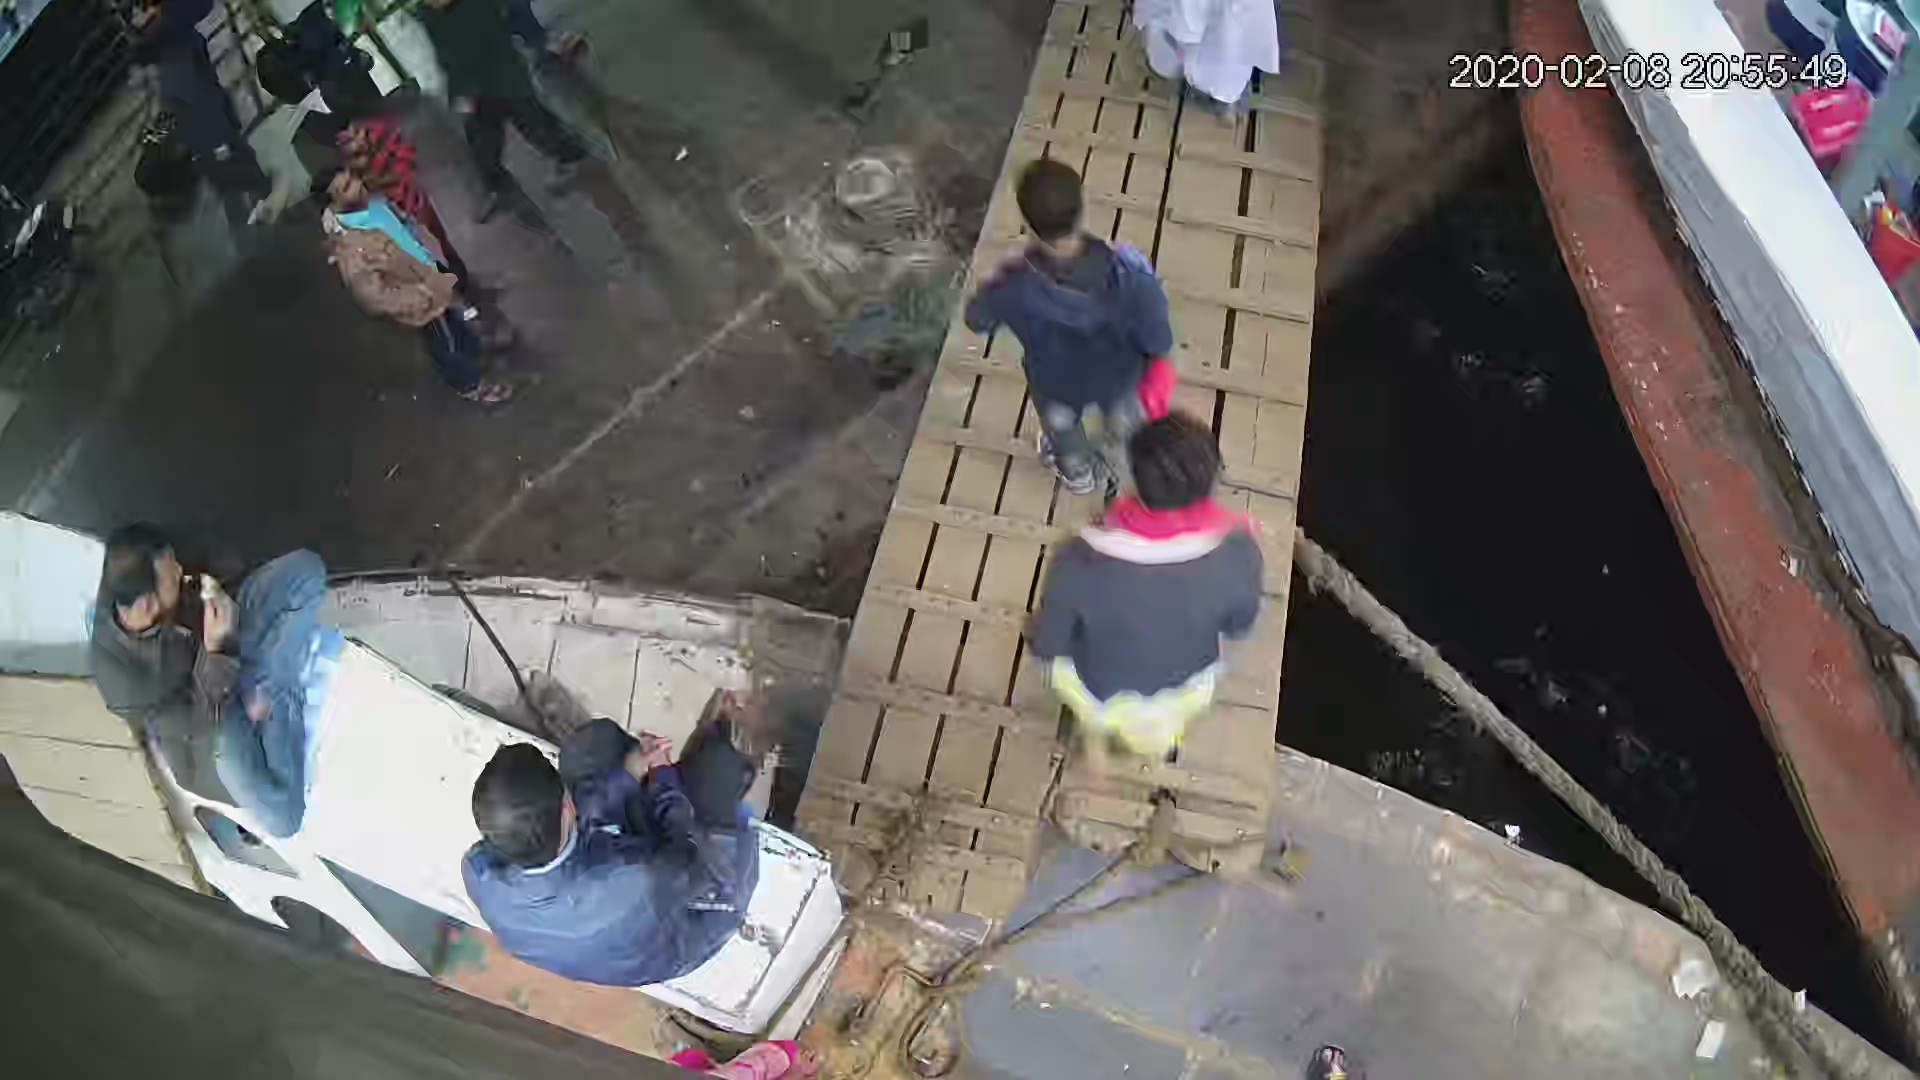person: (1014, 408, 1265, 785), (450, 710, 767, 994), (78, 519, 330, 842), (966, 160, 1160, 490), (308, 170, 534, 407), (410, 1, 598, 206)
